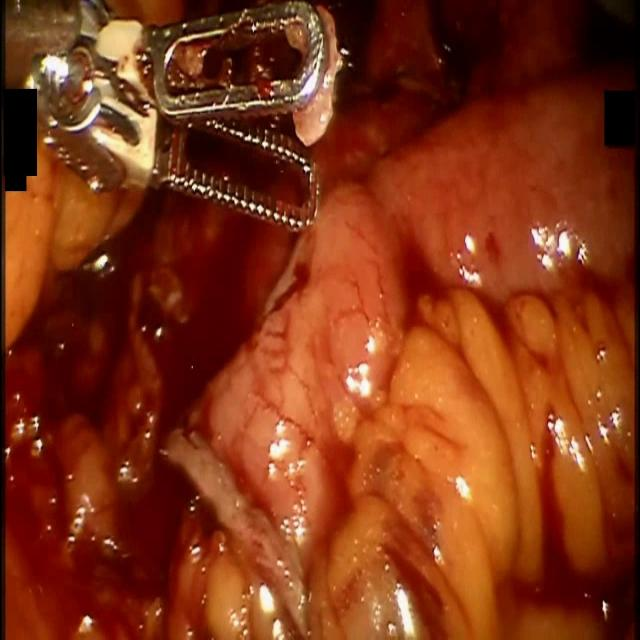surgical-area: (4, 0, 640, 639)
surgical-tool: (0, 0, 328, 232)
